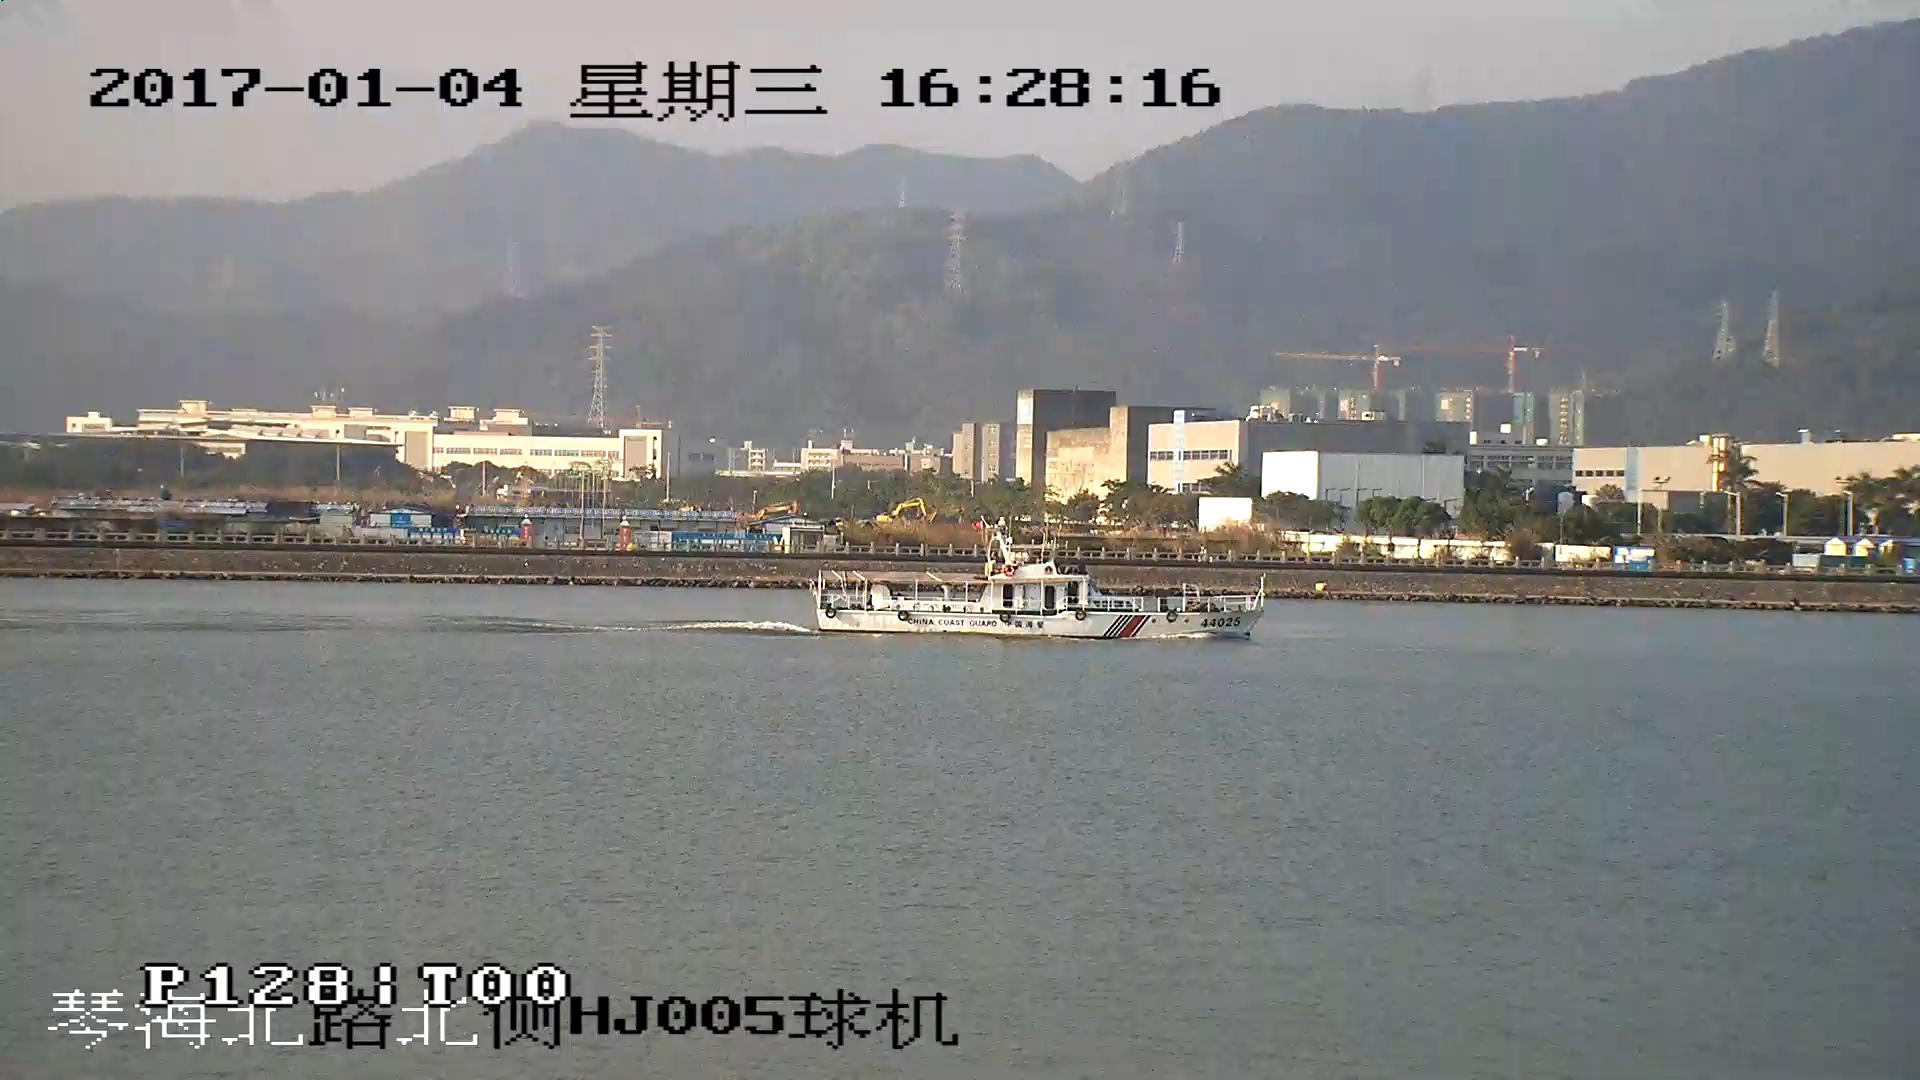passenger ship: (810, 530, 1270, 644)
